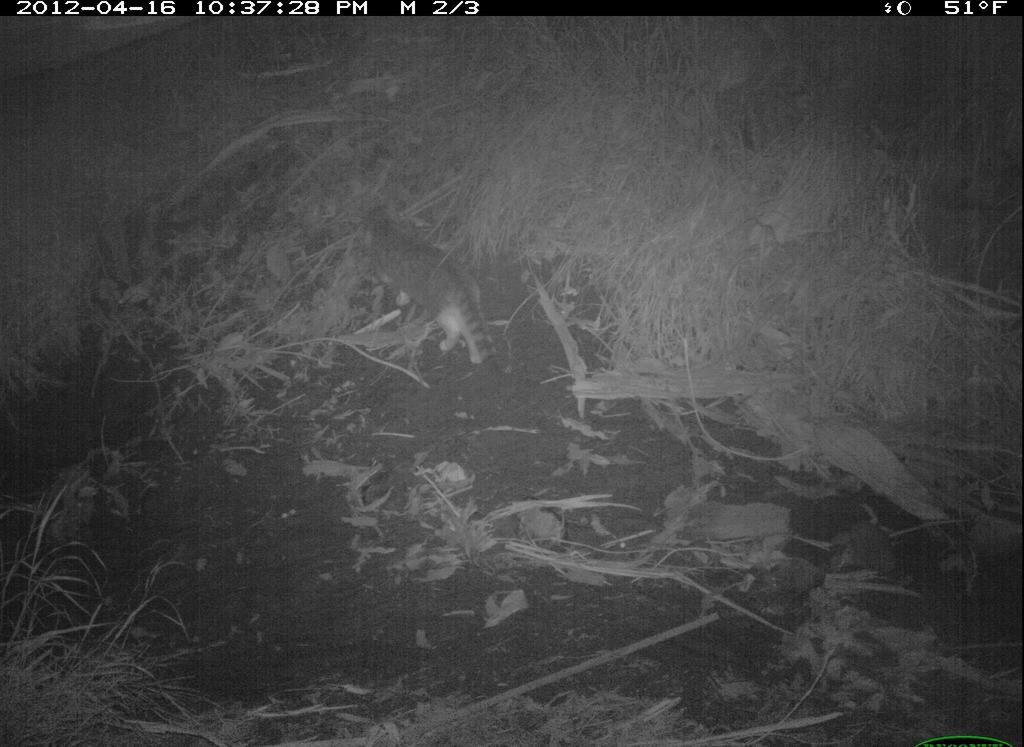cat: (332, 193, 532, 404)
